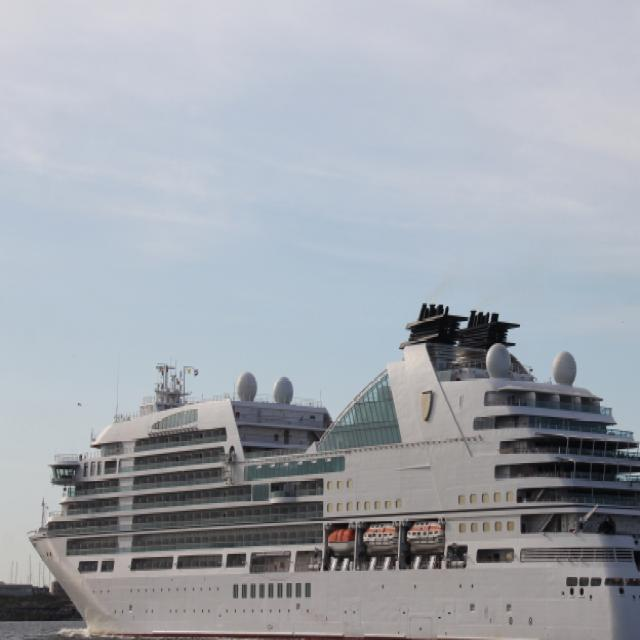cruises: (19, 299, 640, 640)
